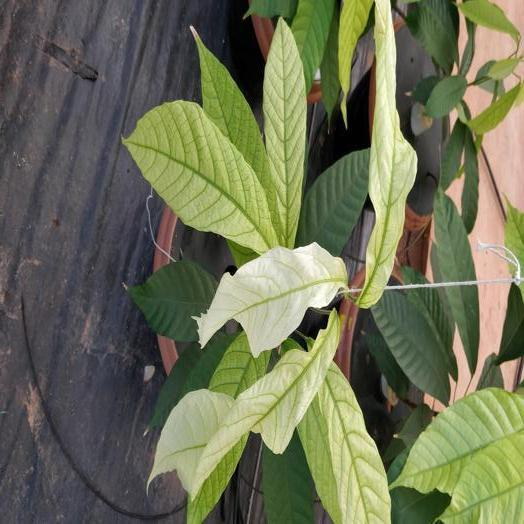Healthy Leaf: (371, 291, 449, 402), (296, 149, 369, 256), (149, 334, 232, 427), (130, 260, 217, 341), (407, 290, 455, 379), (431, 191, 475, 281), (437, 284, 479, 373), (292, 0, 334, 87), (432, 288, 454, 332), (403, 268, 427, 282), (431, 246, 439, 278)
Iron: (191, 311, 340, 494), (124, 101, 277, 253), (357, 0, 416, 307), (192, 243, 347, 356), (393, 388, 523, 492), (318, 365, 390, 523), (195, 37, 268, 182), (264, 19, 306, 247), (148, 389, 232, 494), (441, 430, 523, 523), (186, 434, 246, 523), (299, 396, 339, 523), (338, 0, 372, 124), (209, 336, 268, 397)
